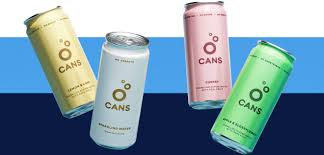can: (178, 2, 298, 153), (24, 7, 148, 151)
